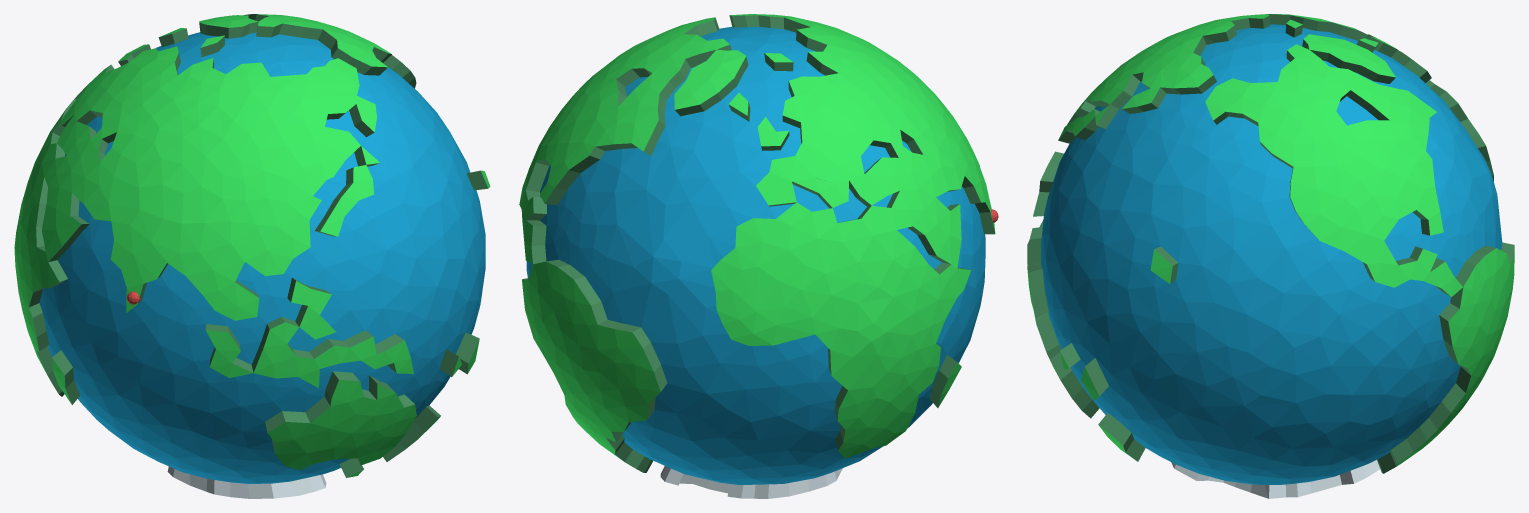
File: earth.glb
3 views of the same model, side by side, from view 1: azimuth 30°, elevation 25°; view 2: azimuth 150°, elevation 25°; view 3: azimuth 270°, elevation 25° (orthographic).
Parts seen in each view (by area): view 1: Sphere; view 2: Sphere; view 3: Sphere.
Part boxes in pixels (x1,y1,x2,y2): Sphere: (14, 14, 490, 498); Sphere: (519, 14, 995, 498); Sphere: (1027, 14, 1514, 498).
Size of the model in its own units: 2.04 by 2.11 by 2.11.
